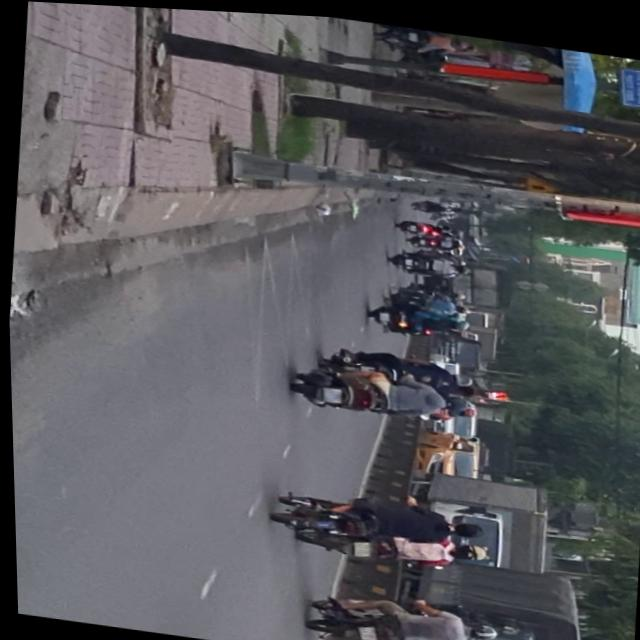helmet: (464, 618, 494, 639)
licenseplate: (262, 480, 489, 556), (298, 584, 496, 640)
motorcyclist: (439, 514, 483, 539)
nohelmet: (354, 621, 374, 640)
